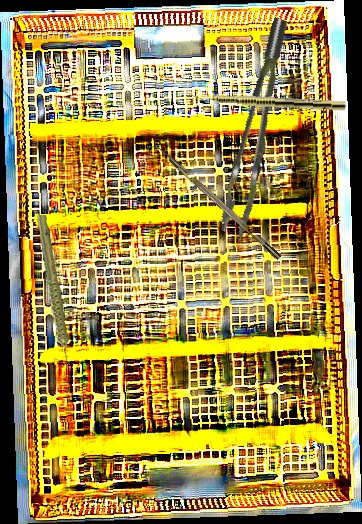Chopper: (146, 139, 282, 266)
Handpiece: (25, 214, 79, 369), (184, 90, 347, 112)
Tissue Forceps: (199, 17, 317, 238)
